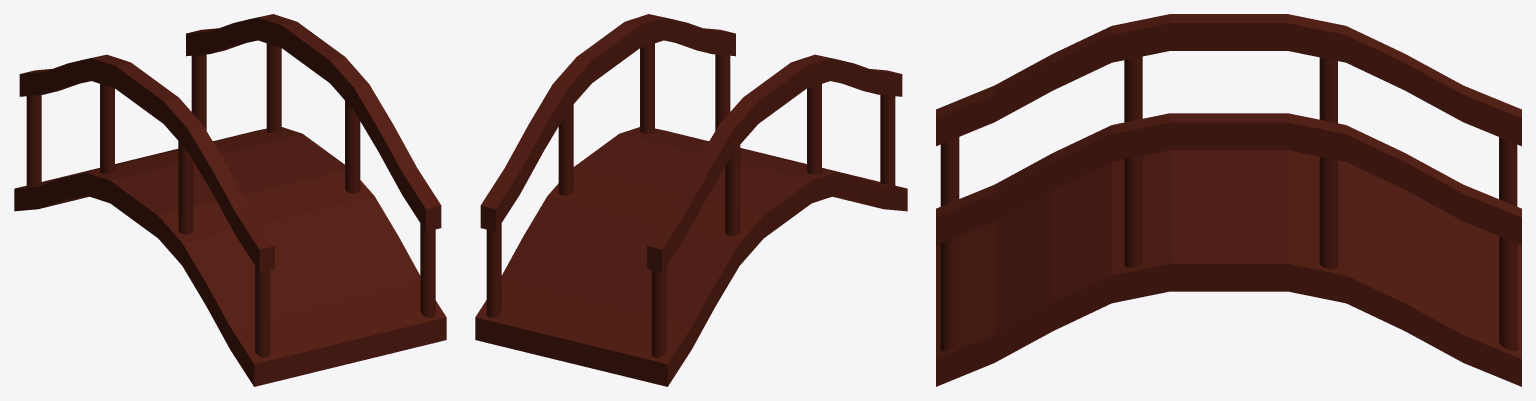
File: bridge.fbx
3 views of the same model, side by side, from view 1: azimuth 30°, elevation 25°; view 2: azimuth 150°, elevation 25°; view 3: azimuth 270°, elevation 25° (orthographic). The views are drawn at different scales.
Visible parts, largest first — view 1: Cube.048, Cylinder.022, Cylinder.021; view 2: Cube.048, Cylinder.022, Cylinder.021; view 3: Cube.048, Cylinder.021, Cylinder.022.
Boxes of the visible parts, <box> form: Cube.048: <box>14,127,446,386</box>; Cylinder.022: <box>19,54,274,357</box>; Cylinder.021: <box>186,14,441,317</box>; Cube.048: <box>475,127,907,386</box>; Cylinder.022: <box>647,54,902,357</box>; Cylinder.021: <box>480,14,735,317</box>; Cube.048: <box>936,150,1521,386</box>; Cylinder.021: <box>936,113,1521,351</box>; Cylinder.022: <box>936,14,1521,244</box>.
Size of the model in its own units: 665 by 707 by 1436.
